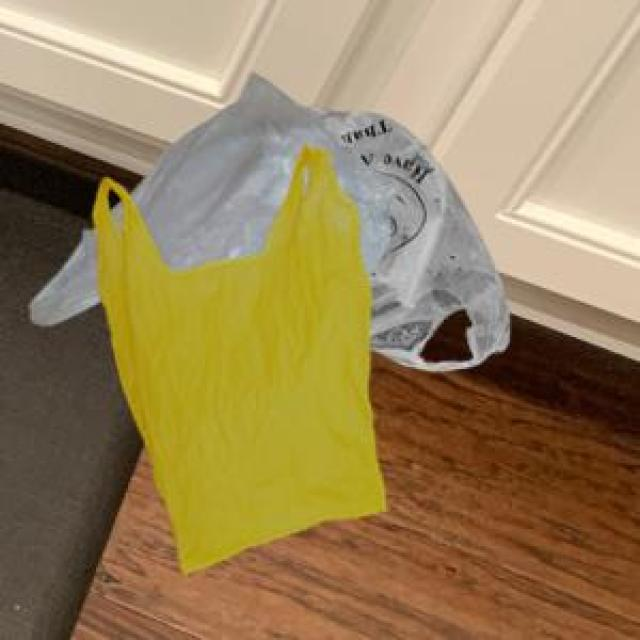plastic: (28, 45, 511, 584)
